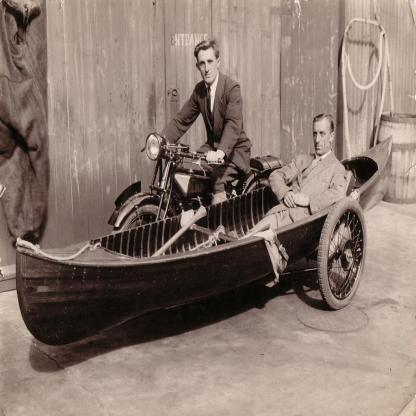face: (198, 48, 218, 84), (315, 119, 331, 155)
